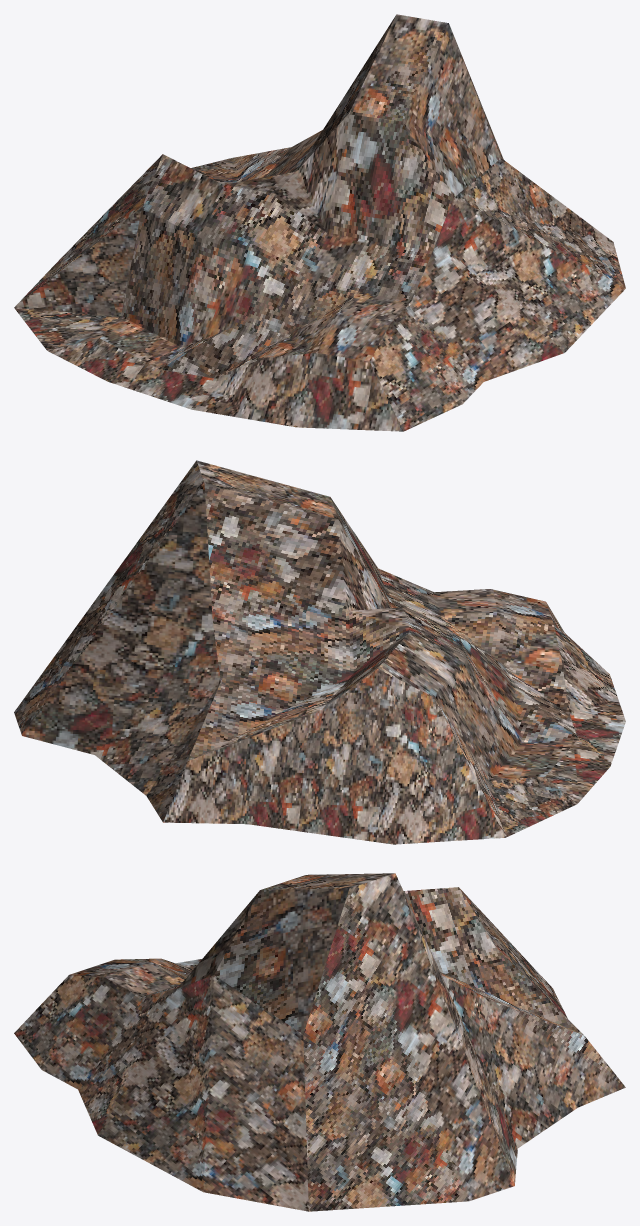
File: Basura 2.fbx
The picture shows the model from 3 angles, top to bottom: view 1: azimuth 30°, elevation 25°; view 2: azimuth 150°, elevation 25°; view 3: azimuth 270°, elevation 25°; orthographic projection. The views are drawn at different scales.
Parts seen in each view (by area): view 1: Basura3; view 2: Basura3; view 3: Basura3.
Part boxes in pixels (x1,y1,x2,y2): Basura3: (14, 14, 625, 431); Basura3: (14, 460, 625, 844); Basura3: (14, 873, 625, 1211).
Size of the model in its own units: 280 by 120 by 266.
